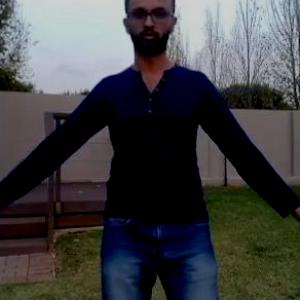land: (22, 3, 280, 299)
